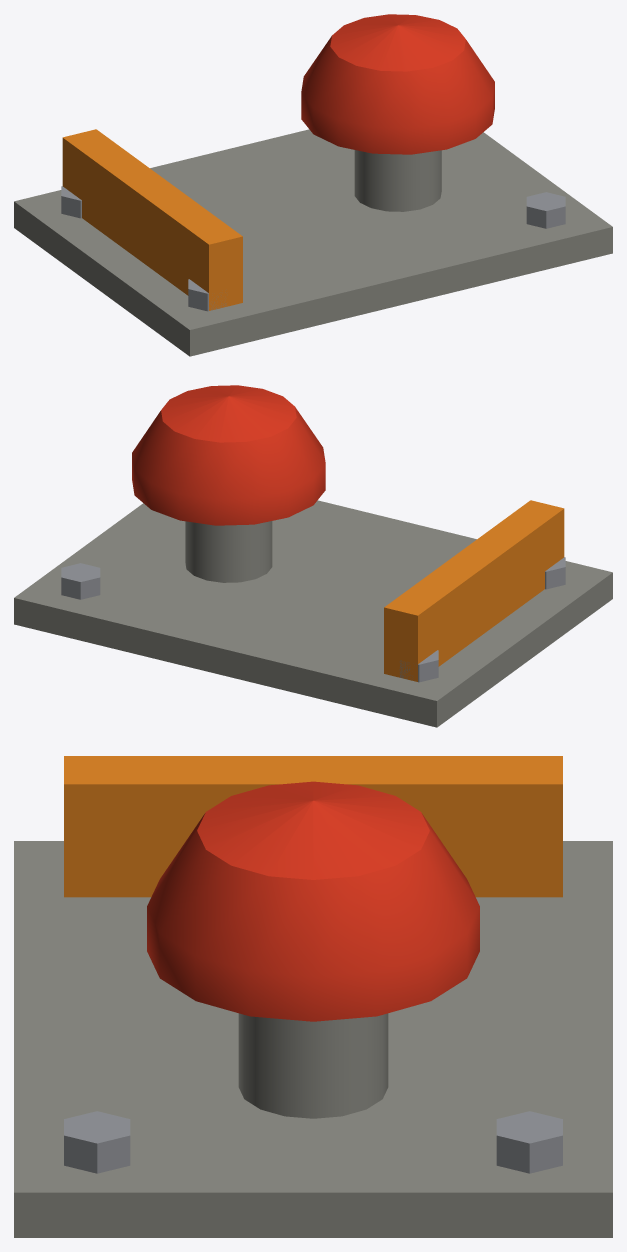
Rendered from refuge100_beacon.obj.
The picture shows the model from 3 angles, top to bottom: view 1: azimuth 30°, elevation 25°; view 2: azimuth 150°, elevation 25°; view 3: azimuth 270°, elevation 25°; orthographic projection. The views are drawn at different scales.
Visible parts, largest first — view 1: refuge100_beacon; view 2: refuge100_beacon; view 3: refuge100_beacon.
Part boxes in pixels (<box>): refuge100_beacon: <box>14,14,612,356</box>; refuge100_beacon: <box>14,385,612,727</box>; refuge100_beacon: <box>14,756,612,1237</box>.
Size of the model in its own units: 0.5 by 0.22 by 0.36.
